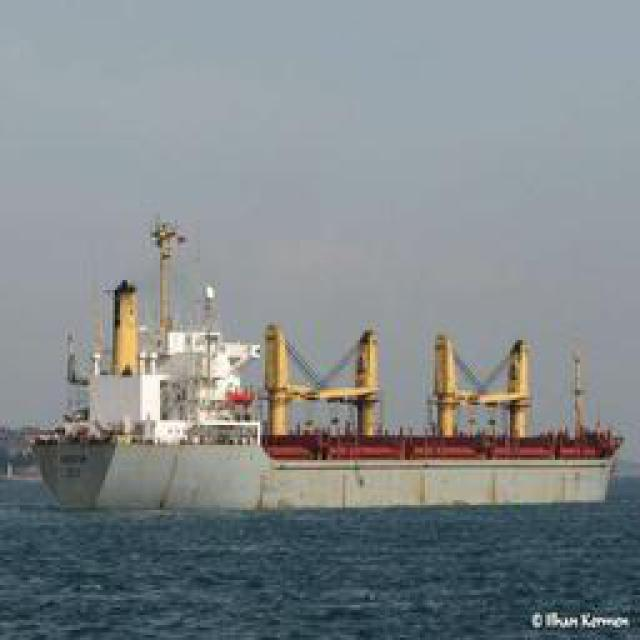Ship: (22, 268, 620, 516)
